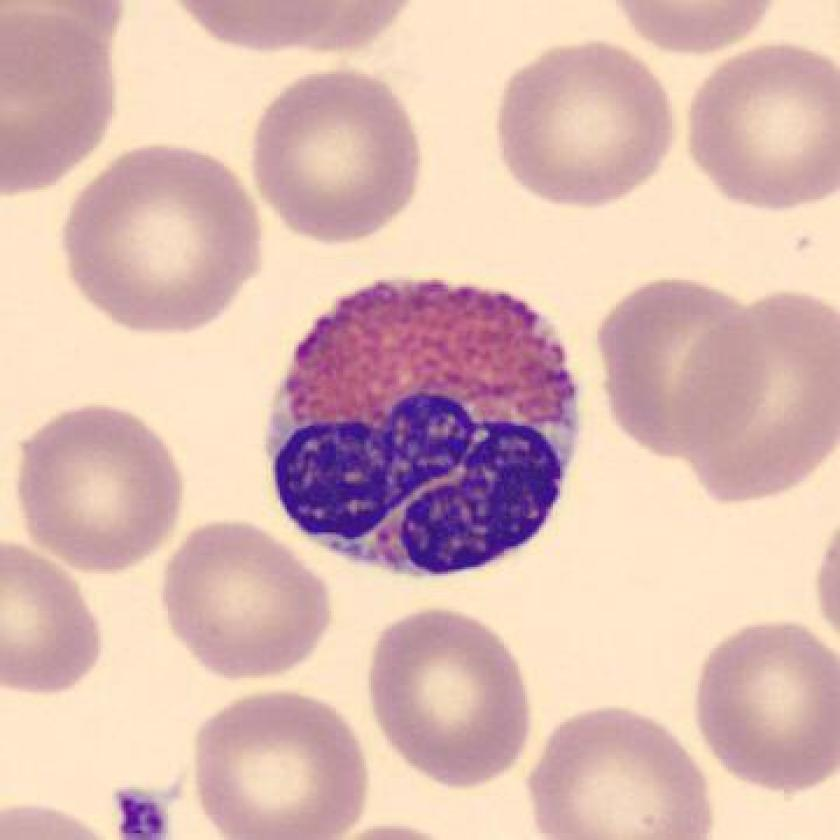eosinophil: (258, 269, 594, 582)
